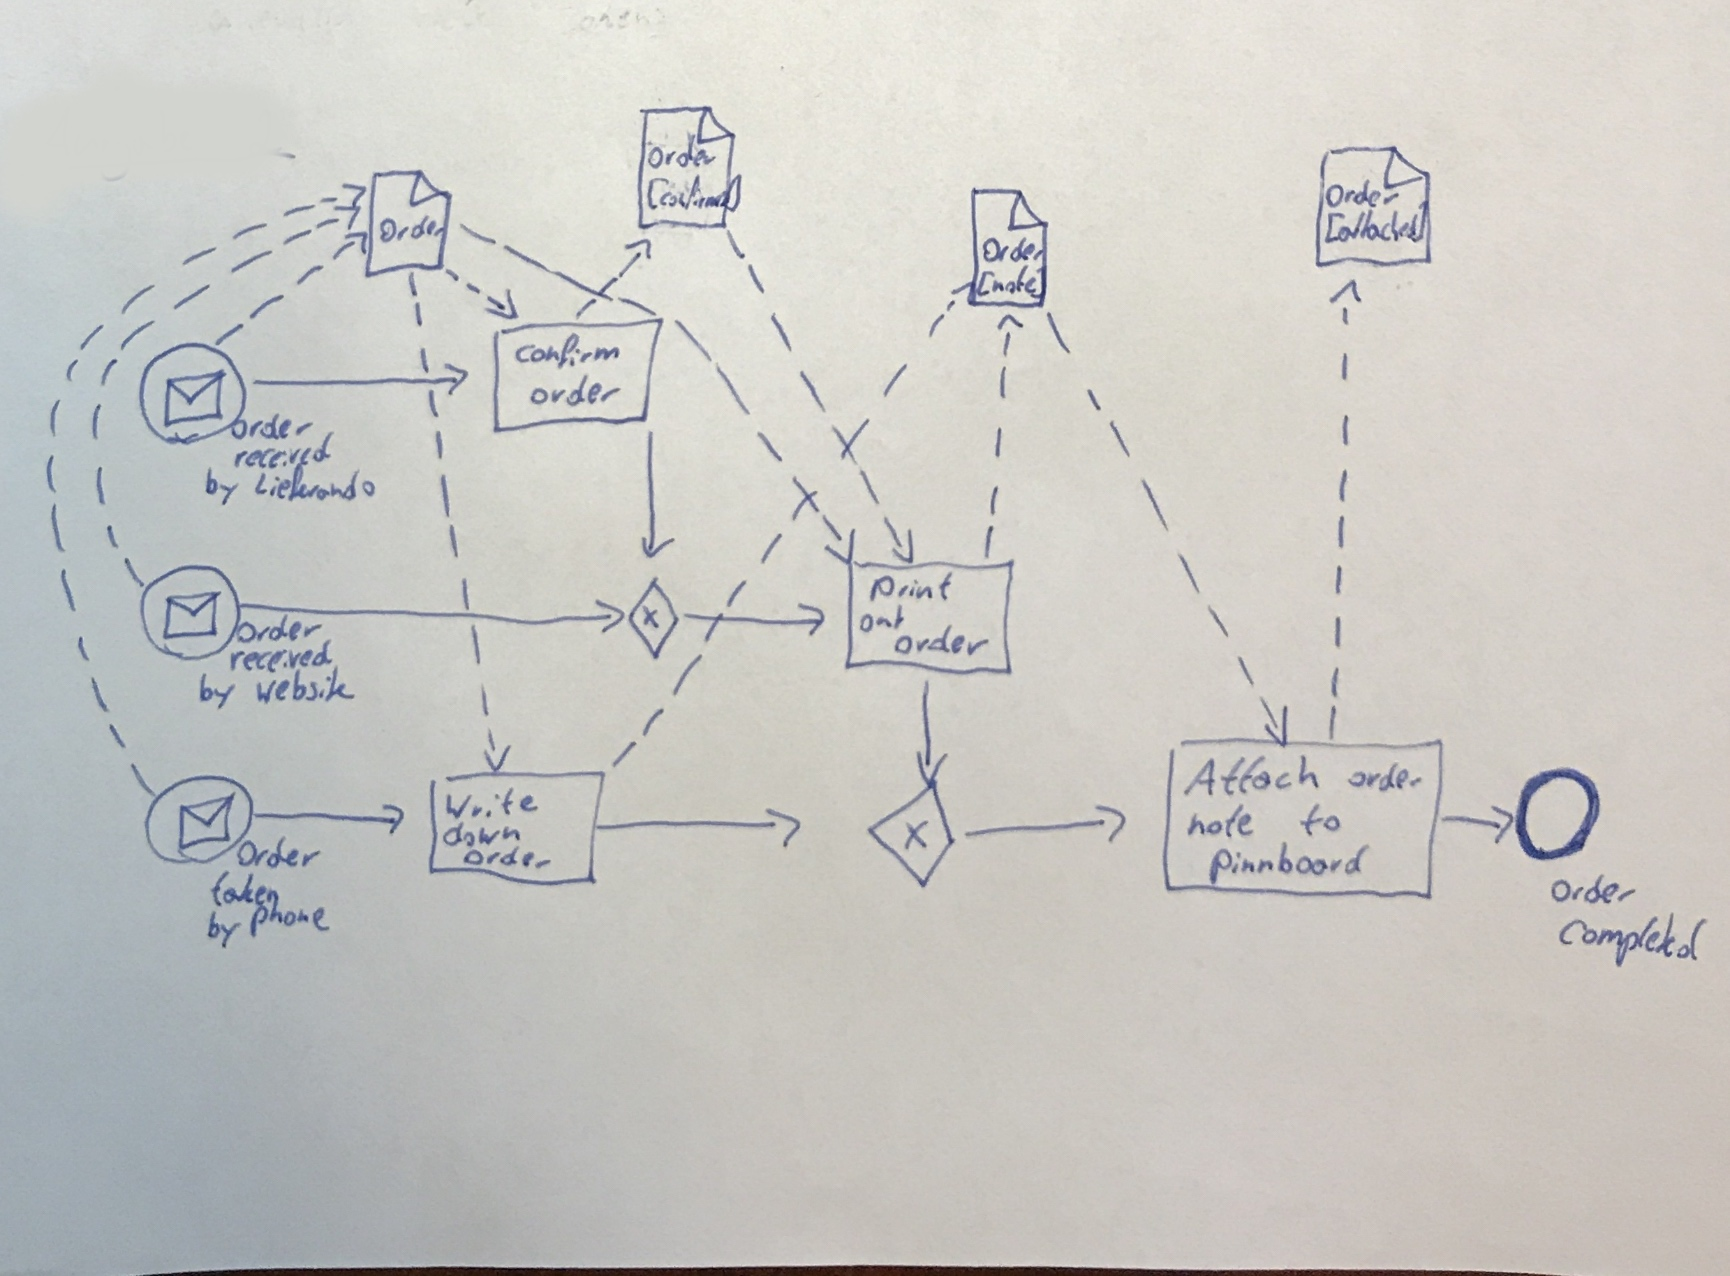Attach: (1179, 754, 1324, 799)
Completed: (1558, 903, 1711, 960)
Lieferando: (250, 467, 380, 502)
Order: (234, 833, 326, 870), (232, 612, 324, 647), (1324, 180, 1404, 210), (376, 214, 449, 246), (978, 236, 1050, 266)
Print: (864, 574, 955, 604)
Write: (441, 786, 543, 821)
[attached]: (1320, 206, 1429, 246)
[confirmed]: (645, 172, 748, 214)
[note]: (975, 265, 1046, 300)
by: (204, 907, 246, 954), (201, 467, 244, 510), (193, 672, 239, 712)
confirm: (512, 330, 625, 369)
down: (441, 821, 527, 848)
note: (1183, 803, 1260, 842)
order: (1547, 870, 1641, 907), (528, 373, 625, 408), (892, 625, 994, 657), (1345, 758, 1426, 794), (459, 845, 557, 874), (646, 134, 720, 172), (228, 414, 317, 443)
out: (857, 600, 911, 637)
phone: (244, 903, 336, 939)
pinnboord: (1205, 844, 1367, 882)
received: (228, 437, 336, 471), (224, 641, 336, 673)
taken: (206, 868, 287, 908)
to: (1296, 801, 1345, 839)
website: (253, 668, 355, 708)
